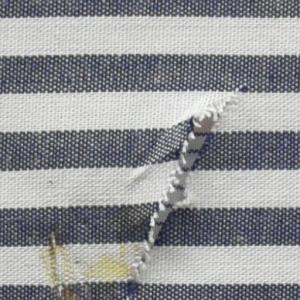Damage: (122, 83, 251, 300)
Oil Stain: (36, 225, 77, 300)
Stain: (84, 243, 142, 286)
